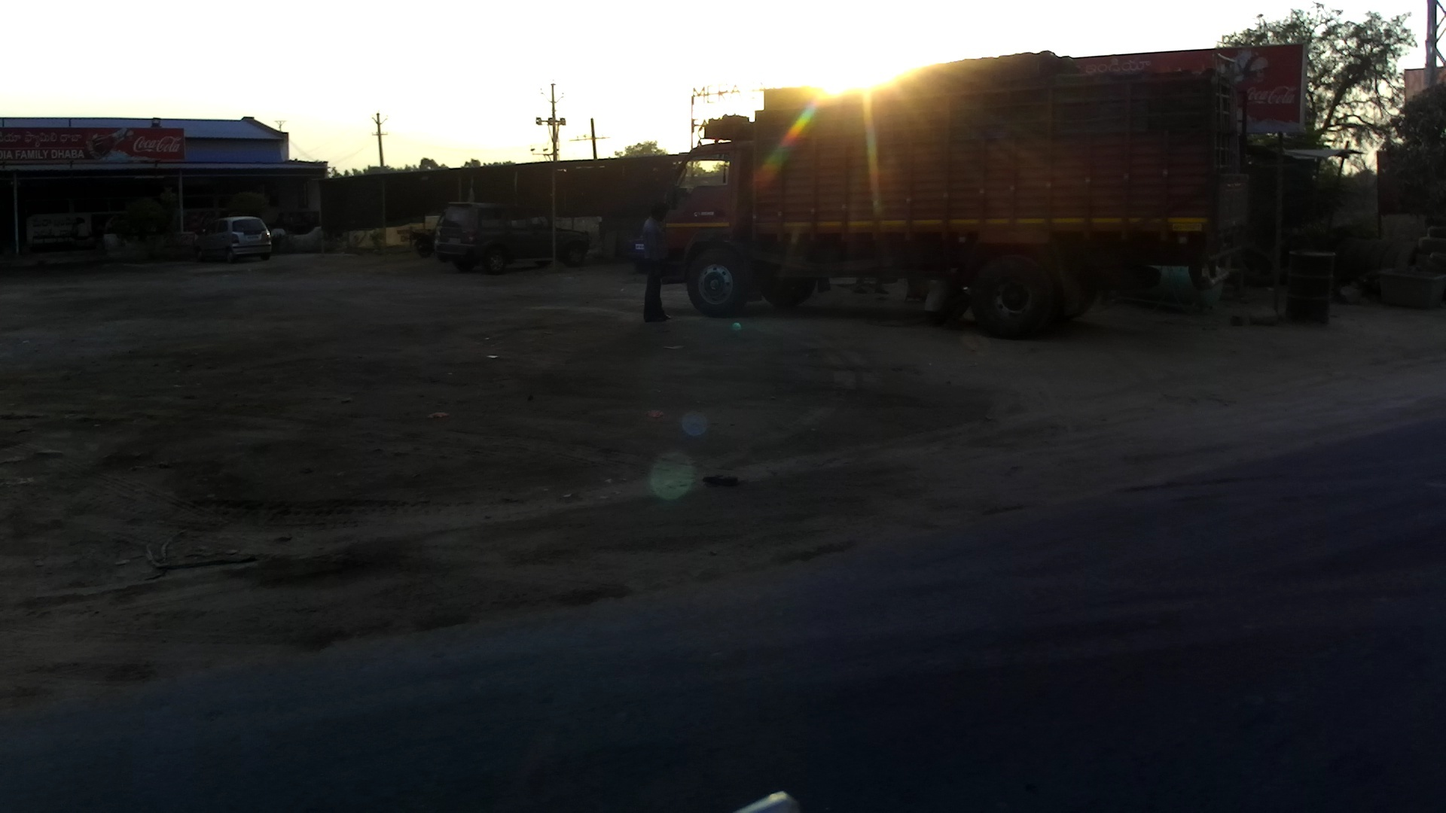car: (432, 199, 593, 273), (188, 216, 274, 263), (630, 222, 660, 277)
motorcycle: (410, 227, 435, 257)
person: (633, 206, 676, 328)
truck: (656, 50, 1260, 343)
